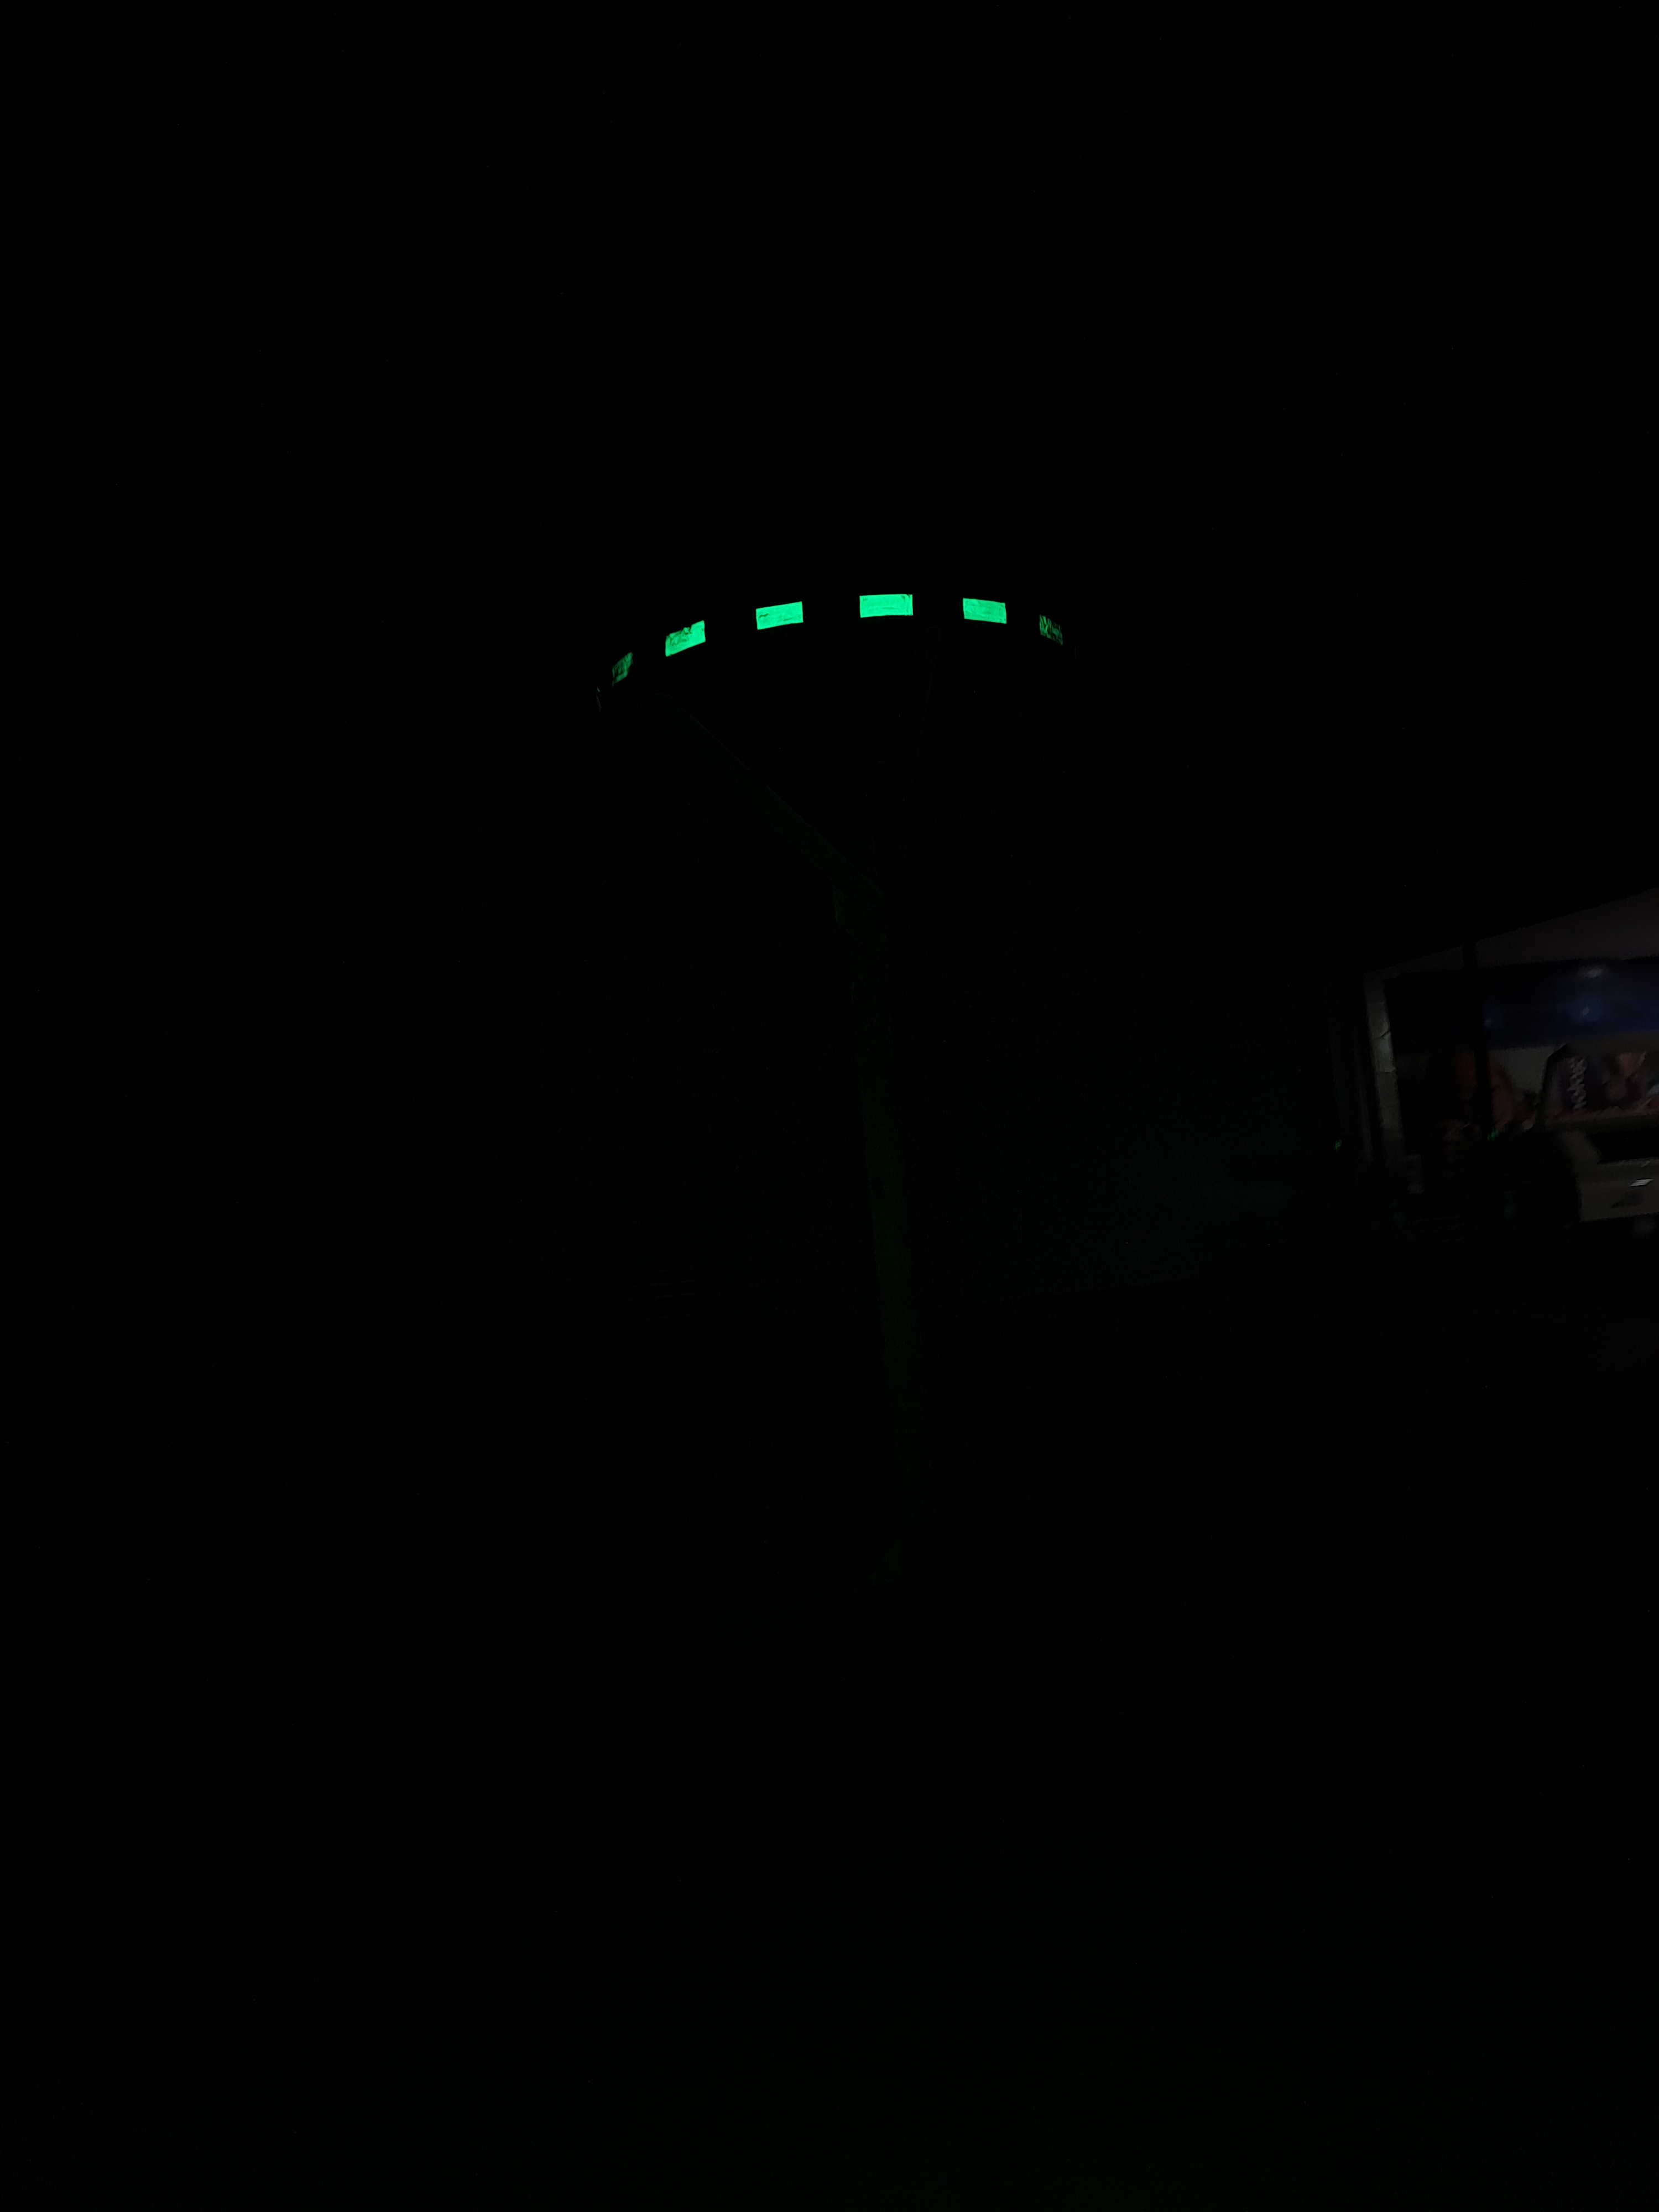hoop: (559, 549, 1101, 712)
